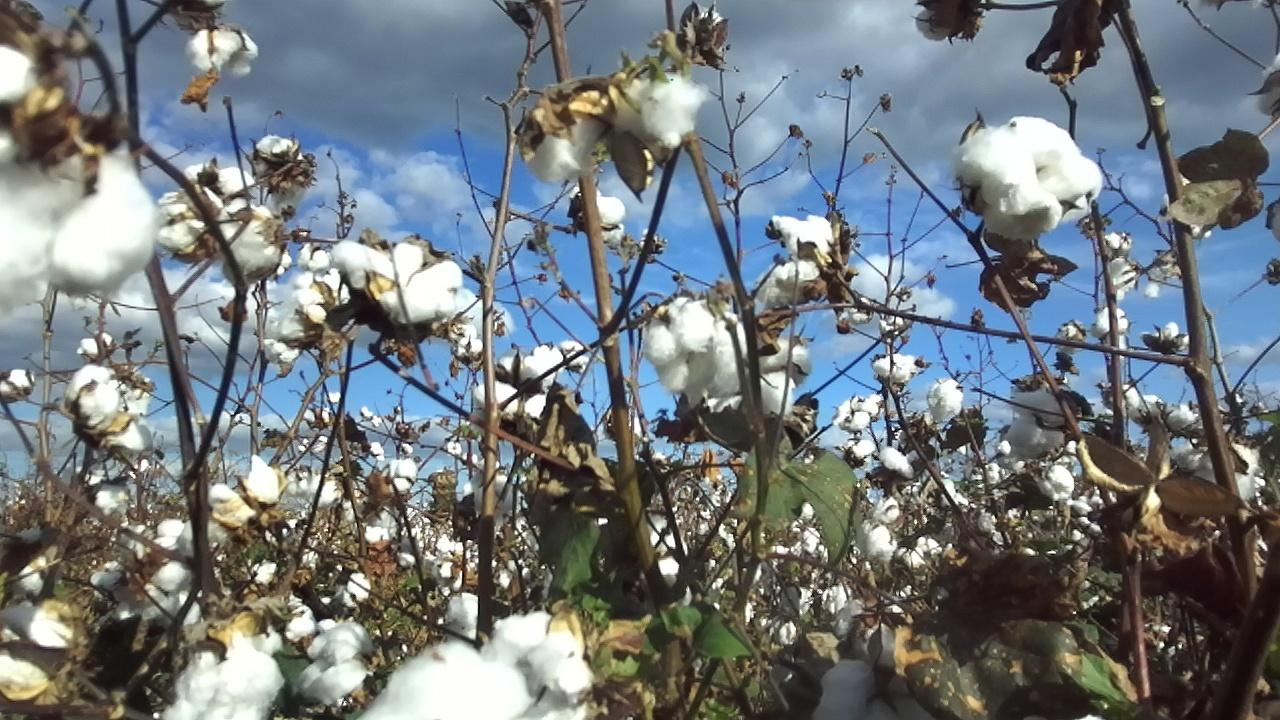cotton_ready: (0, 46, 158, 310), (954, 114, 1104, 239), (348, 639, 537, 720), (816, 622, 942, 720), (484, 612, 597, 720), (325, 245, 462, 324), (645, 295, 745, 394), (165, 640, 285, 720), (91, 542, 193, 623), (613, 69, 710, 149), (760, 210, 837, 305), (67, 365, 145, 455), (0, 599, 77, 688), (295, 619, 372, 707), (532, 93, 600, 185), (476, 350, 560, 422), (207, 454, 284, 529), (220, 597, 314, 652), (219, 202, 285, 279), (1002, 390, 1077, 455), (756, 334, 810, 414), (156, 193, 210, 257), (187, 28, 259, 75), (569, 186, 624, 247), (279, 283, 336, 340), (256, 133, 305, 197), (184, 166, 252, 197), (1260, 57, 1280, 110)
